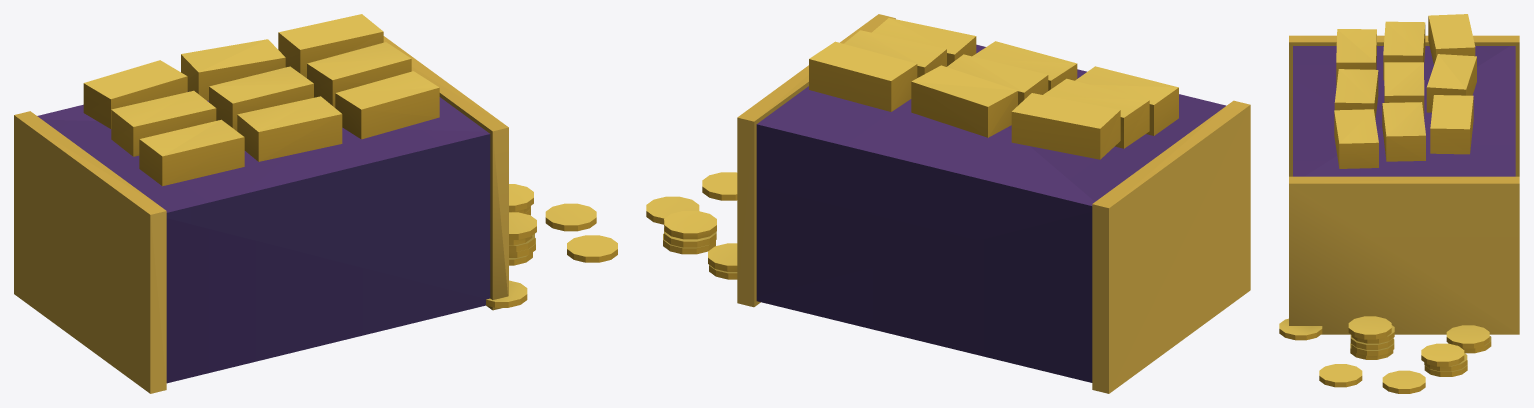
The picture shows the model from 3 angles, left to right: view 1: azimuth 30°, elevation 25°; view 2: azimuth 150°, elevation 25°; view 3: azimuth 270°, elevation 25°; orthographic projection. The views are drawn at different scales.
Parts seen in each view (by area): view 1: base; view 2: base; view 3: base.
Boxes of the visible parts, x1,y1,x2,y2 form: base: (14,14,617,393); base: (646,14,1250,393); base: (1279,14,1519,393).
Bounding box in the file's own units: 0.627 × 0.2625 × 0.3021.
